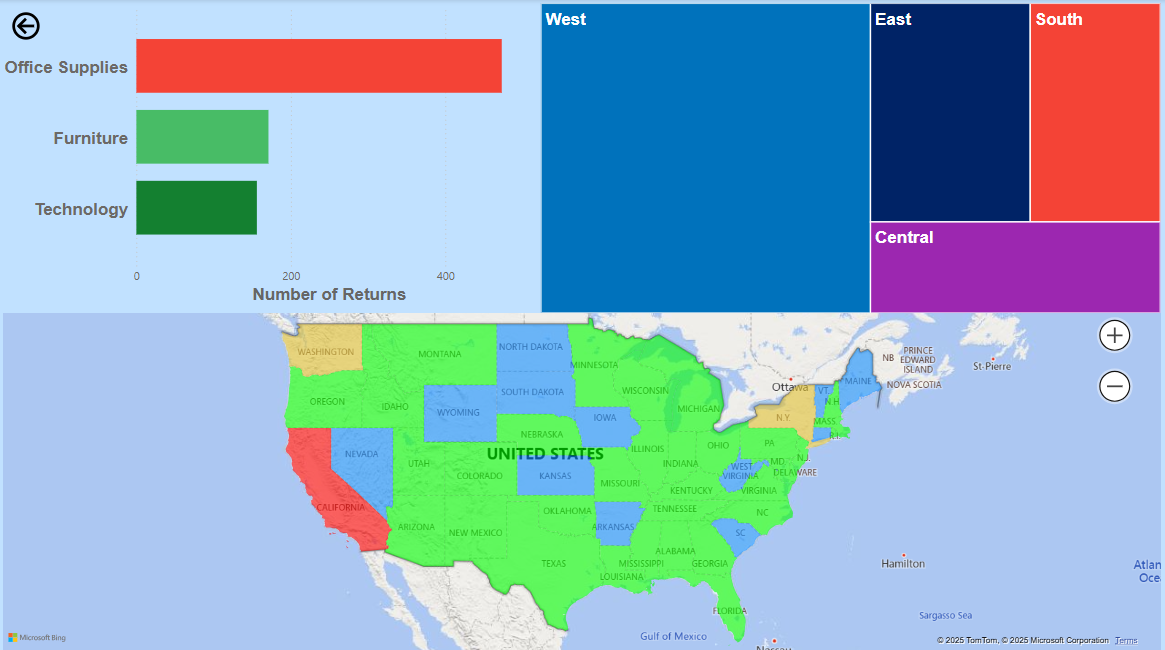

Layout of this report page (visuals, bound fields, positions):
{"tool":"powerbi","page":{"name":"Return Analysis ","canvas":[1280,720],"ordinal":4},"visuals":[{"type":"barChart","fields":{"Category":["Orders.Category"],"Y":["key Measures.Number of Returns"]},"box":[0,0,590,340],"z":0},{"type":"treemap","fields":{"Group":["Orders.Region"],"Values":["key Measures.Return Rate"]},"box":[590,0,690,350],"z":1000},{"type":"filledMap","fields":{"Category":["Orders.State"]},"box":[0,340,1280,380],"z":2000},{"type":"actionButton","box":[10,10,100,40],"z":3000}]}

Visuals, with their boxes in screenshot pixels (x1, y1, x2, y2), scaled from the page's 1280x720 canvas onto the 1165x650 screenshot:
barChart - Orders.Category x key Measures.Number of Returns: 0 0 537 307
treemap - Orders.Region x key Measures.Return Rate: 537 0 1164 316
filledMap - Orders.State: 0 307 1164 649
actionButton: 9 9 100 45
